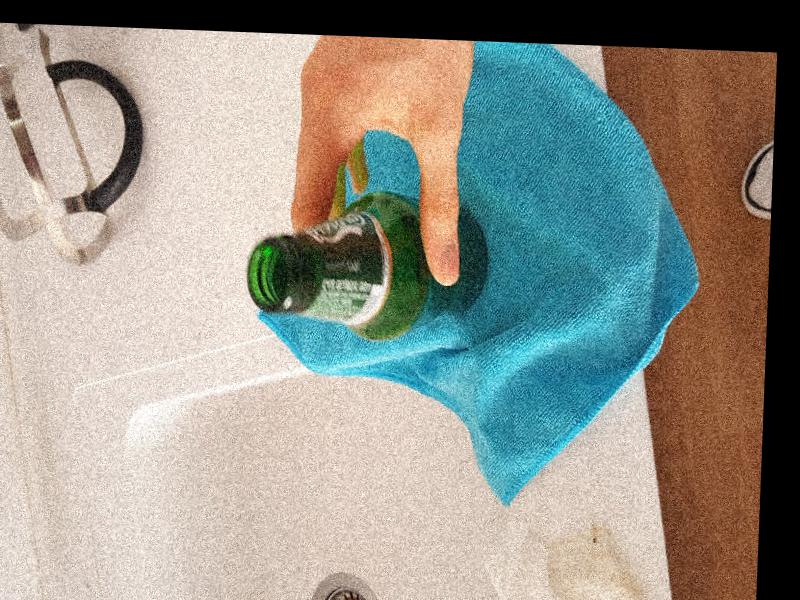Beer: (248, 198, 492, 342)
